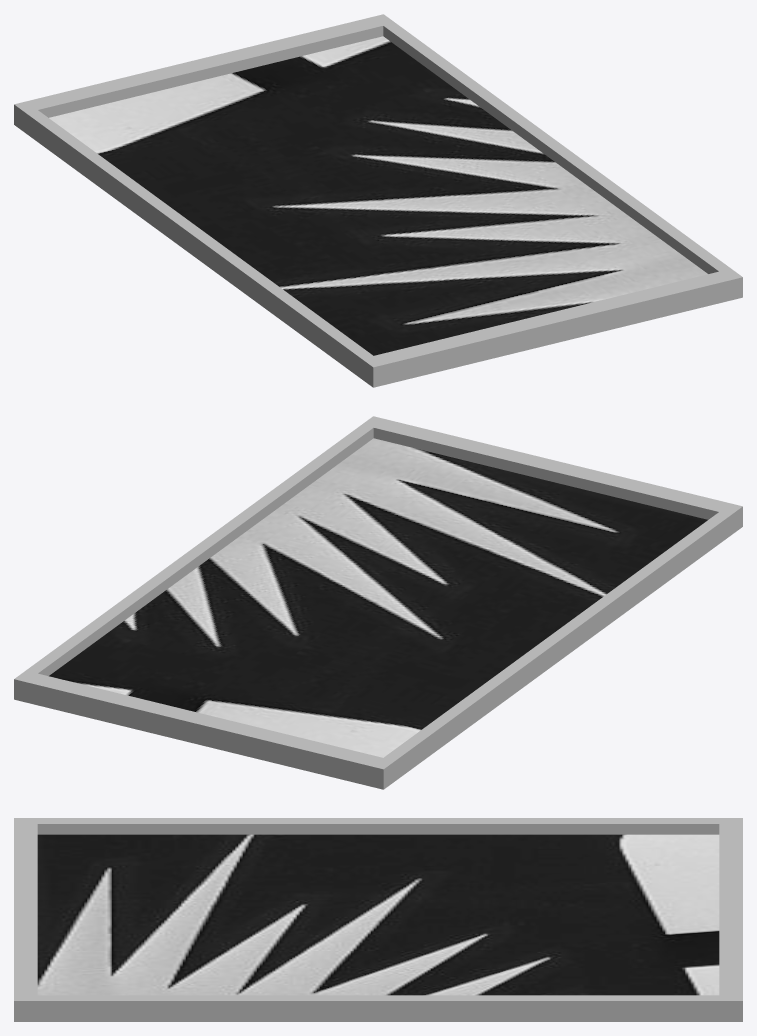
File: quadro informativo2.fbx
3 renders of one model, top to bottom at view 1: azimuth 30°, elevation 25°; view 2: azimuth 150°, elevation 25°; view 3: azimuth 270°, elevation 25°, orthographic.
Visible parts, largest first — view 1: Cube; view 2: Cube; view 3: Cube.
Part boxes in pixels (box(x1,y1,x2,y2)): Cube: box(14, 14, 742, 387); Cube: box(14, 416, 742, 789); Cube: box(14, 818, 742, 1021).
Size of the model in its own units: 200 by 10.55 by 337.
